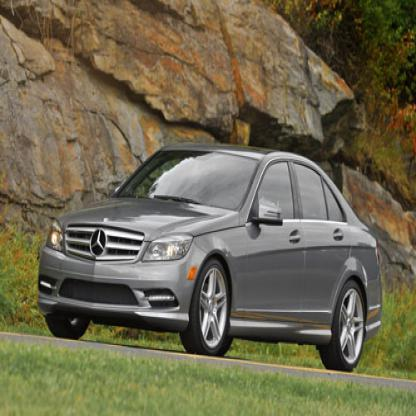Vehicle: (36, 140, 384, 376)
